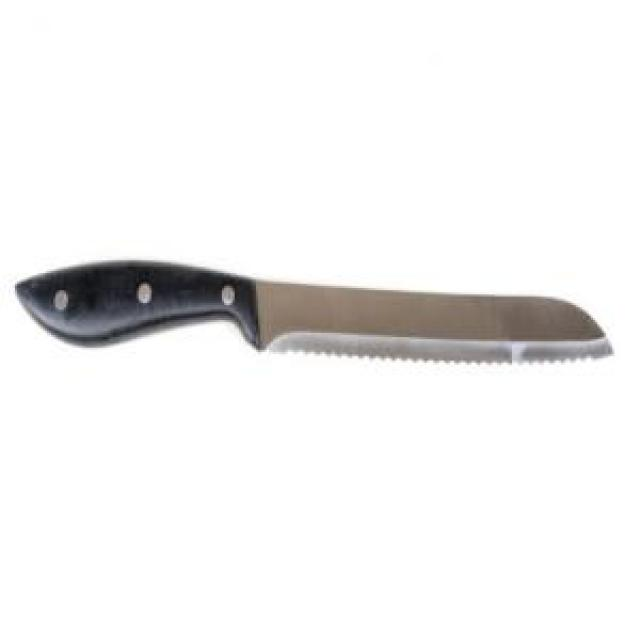knife: (13, 254, 614, 384)
